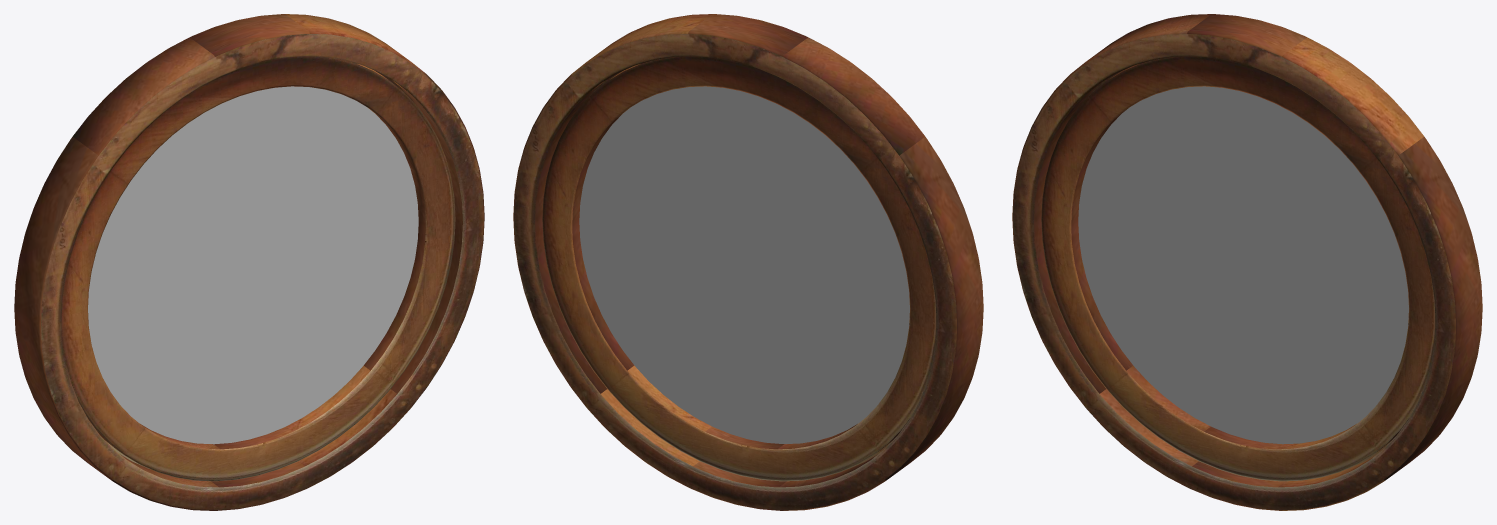
The model's file is RoundWindowWood03.fbx.
3 renders of one model, left to right at view 1: azimuth 30°, elevation 25°; view 2: azimuth 150°, elevation 25°; view 3: azimuth 330°, elevation 25°, orthographic.
Parts seen in each view (by area): view 1: default; view 2: default; view 3: default.
Boxes of the visible parts, box(x1,y1,x2,y2) form: default: box(14, 14, 484, 510); default: box(513, 14, 983, 510); default: box(1012, 14, 1482, 510).
Bounding box in the file's own units: 121 × 121 × 12.24.
